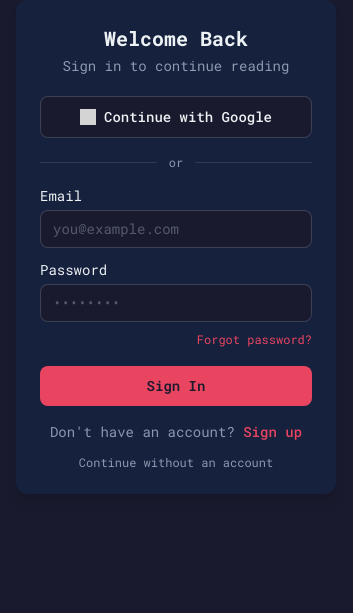
it: Login Page › Sign Up Toggle › switches back to login mode
Step 1. Click the button "Sign up" → point(273, 432), box [243,422,302,442]
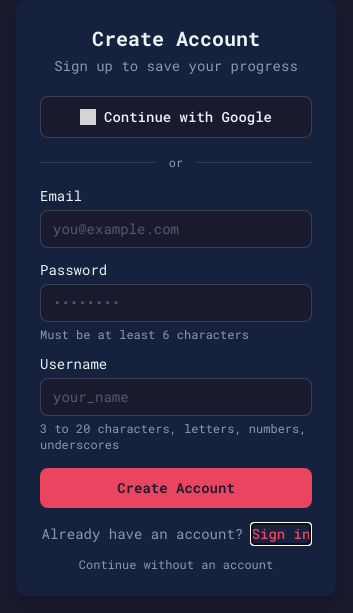
Step 2. Click the button "Sign in" → point(281, 534), box [252,524,310,544]
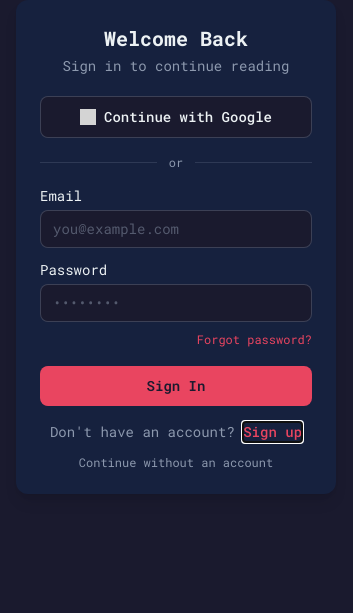
Now the heading "Welcome Back" is shown, box [104,25,248,51]
